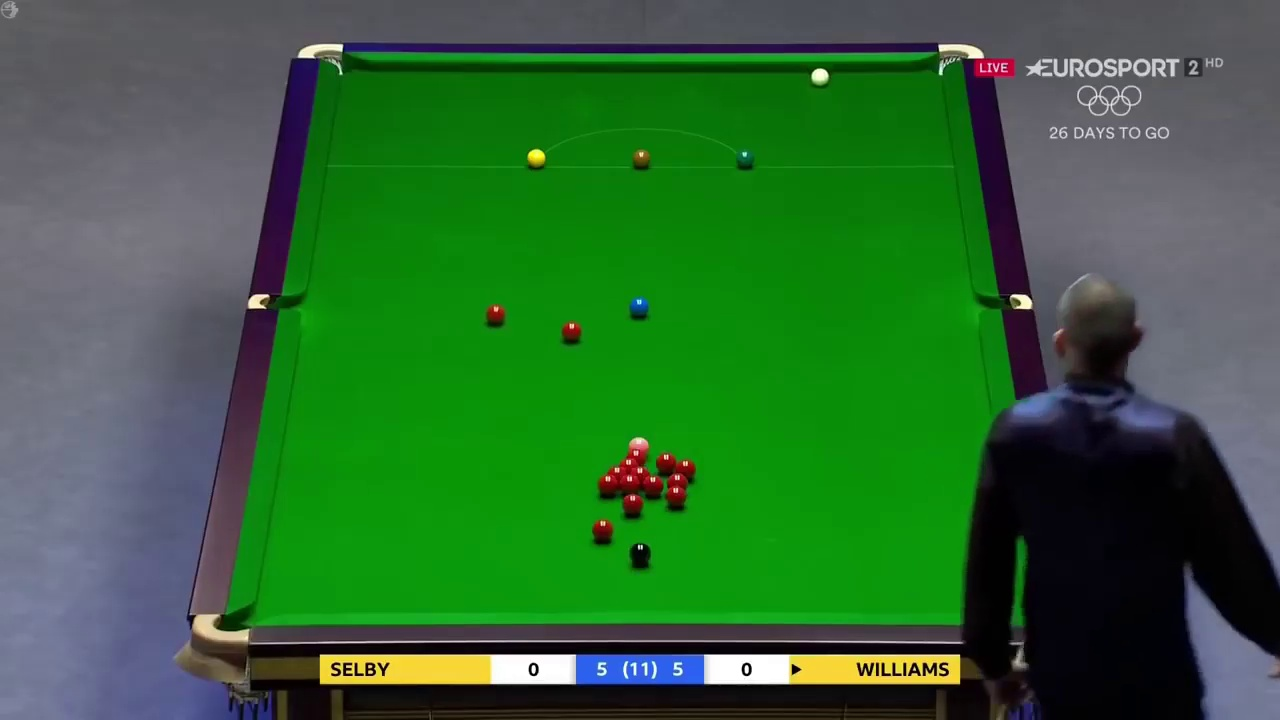ball: (808, 63, 834, 87), (589, 517, 613, 540), (560, 320, 585, 342), (630, 542, 652, 567), (485, 302, 506, 326), (734, 149, 756, 171), (629, 296, 652, 317), (666, 486, 686, 510), (599, 473, 619, 496), (619, 494, 641, 514), (526, 148, 545, 169), (633, 149, 652, 167)
